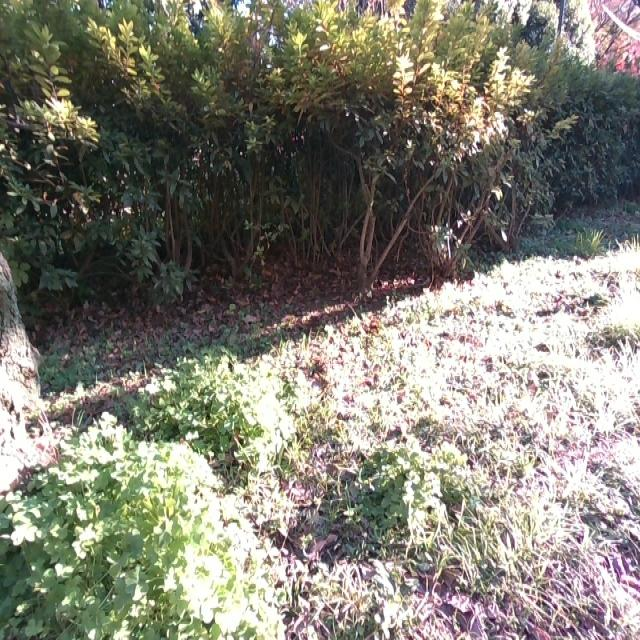bush: (4, 0, 640, 300)
tree: (1, 228, 66, 506)
